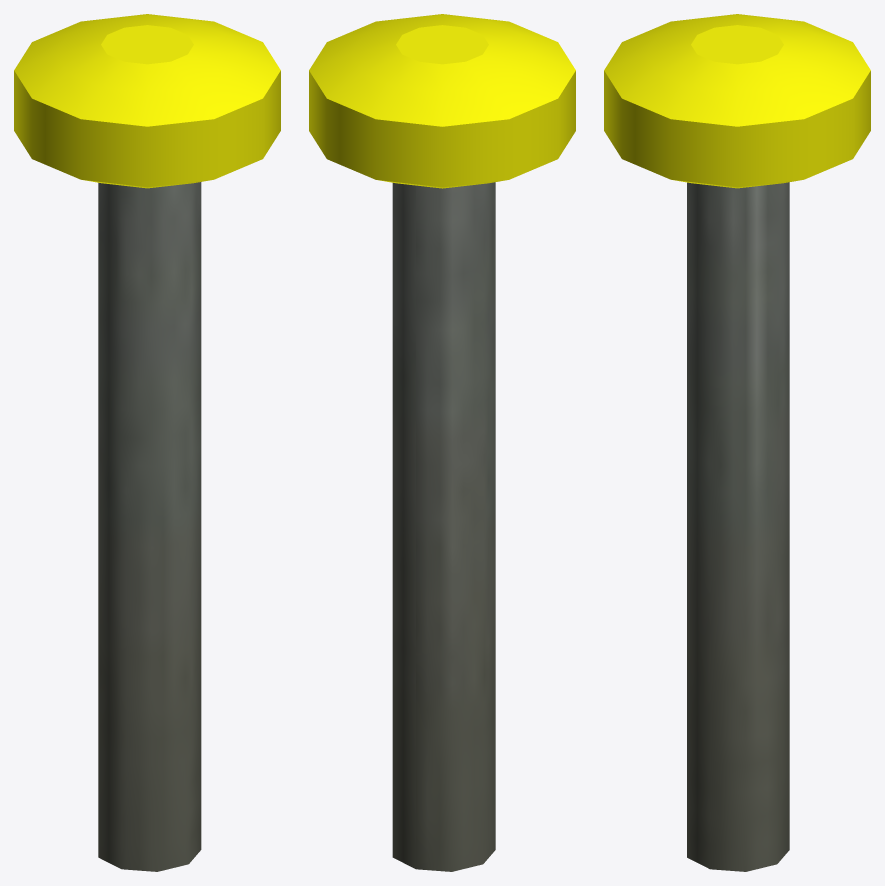
File: Street Lamp LP.FBX
The picture shows the model from 3 angles, left to right: view 1: azimuth 30°, elevation 25°; view 2: azimuth 150°, elevation 25°; view 3: azimuth 270°, elevation 25°; orthographic projection.
Parts seen in each view (by area): view 1: Steet Lamp LP; view 2: Steet Lamp LP; view 3: Steet Lamp LP.
Part boxes in pixels (left/top/right/bottom): Steet Lamp LP: left=14, top=14, right=280, bottom=871; Steet Lamp LP: left=309, top=14, right=575, bottom=871; Steet Lamp LP: left=604, top=14, right=870, bottom=871.
Bounding box in the file's own units: 9.91 × 32.99 × 9.91.
2 materials, 1 textured.
